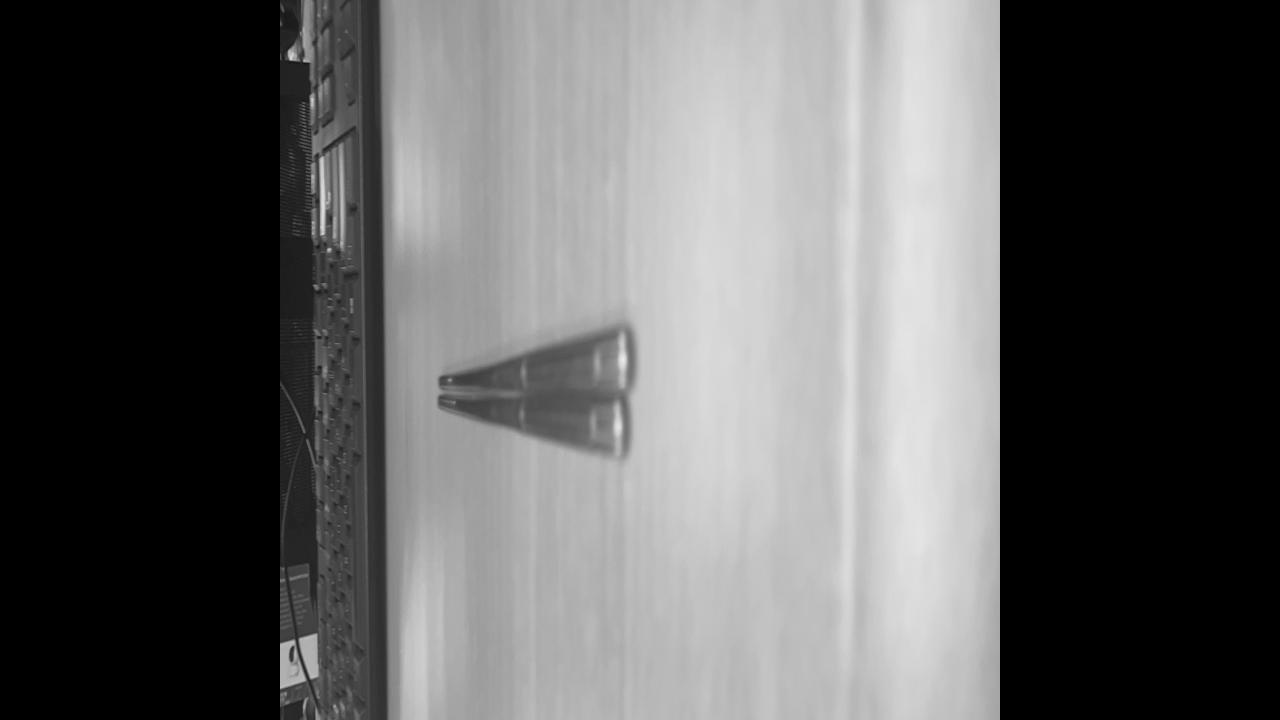chopstick: (436, 322, 628, 456)
